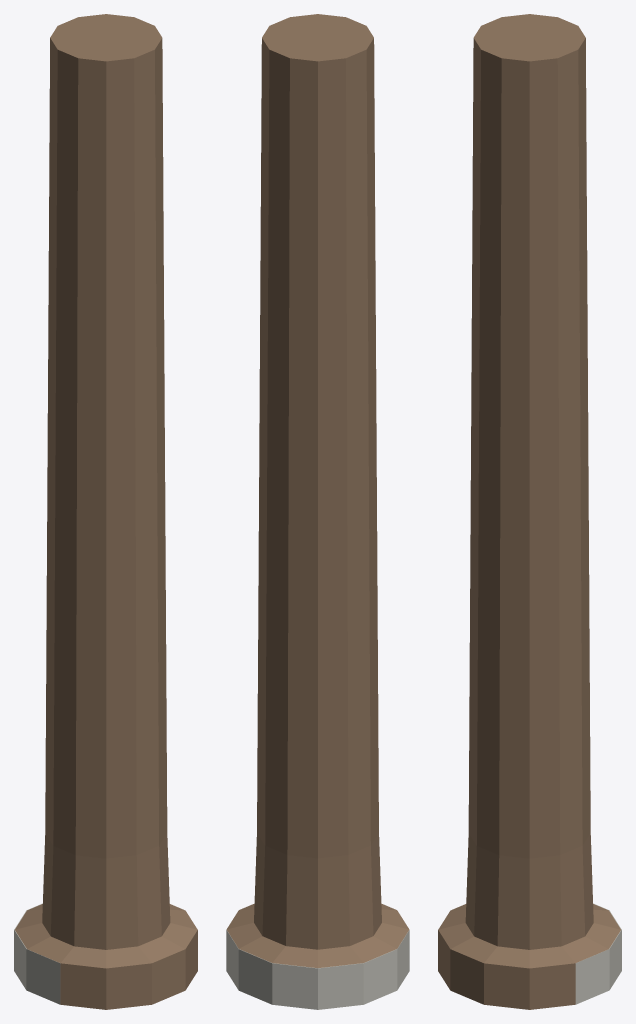
File: feudal-japan-castle-town-timber-column-426cd61c__26346.glb
3 renders of one model, left to right at view 1: azimuth 30°, elevation 25°; view 2: azimuth 150°, elevation 25°; view 3: azimuth 270°, elevation 25°, orthographic.
Parts seen in each view (by area): view 1: timber-column; view 2: timber-column; view 3: timber-column.
Part boxes in pixels (x1=…): timber-column: x1=14, y1=14, x2=197, y2=1009; timber-column: x1=226, y1=14, x2=409, y2=1009; timber-column: x1=438, y1=14, x2=621, y2=1009.
Size of the model in its own units: 0.4808 by 2.7 by 0.4814.
